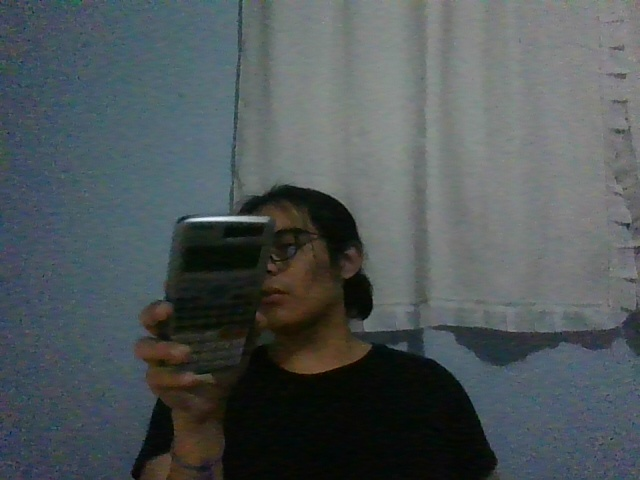calculadora: (158, 214, 275, 375)
